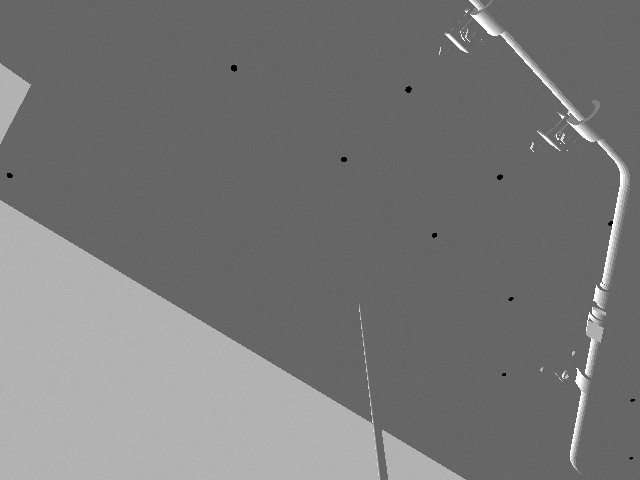hole: (403, 84, 414, 95), (229, 63, 239, 73), (339, 155, 349, 164), (495, 173, 505, 182), (5, 171, 14, 180), (430, 231, 439, 240), (606, 219, 615, 228), (506, 295, 516, 303), (628, 397, 637, 404), (500, 371, 508, 378)
